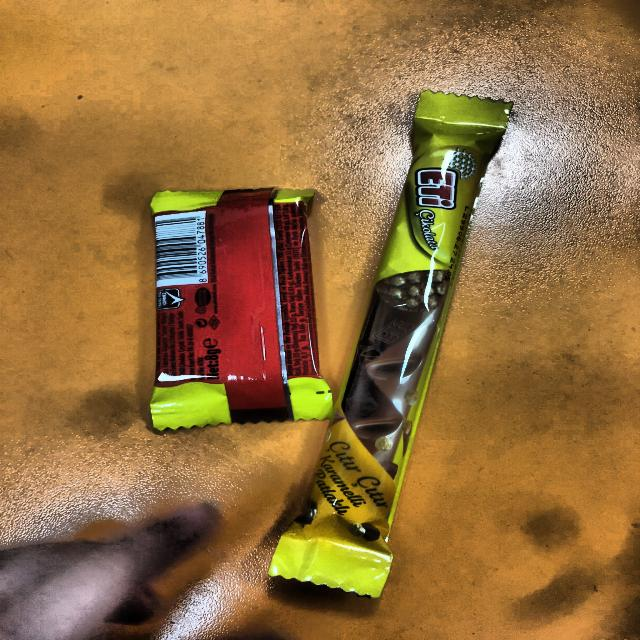Plastic: (266, 88, 513, 601), (142, 187, 338, 430)
